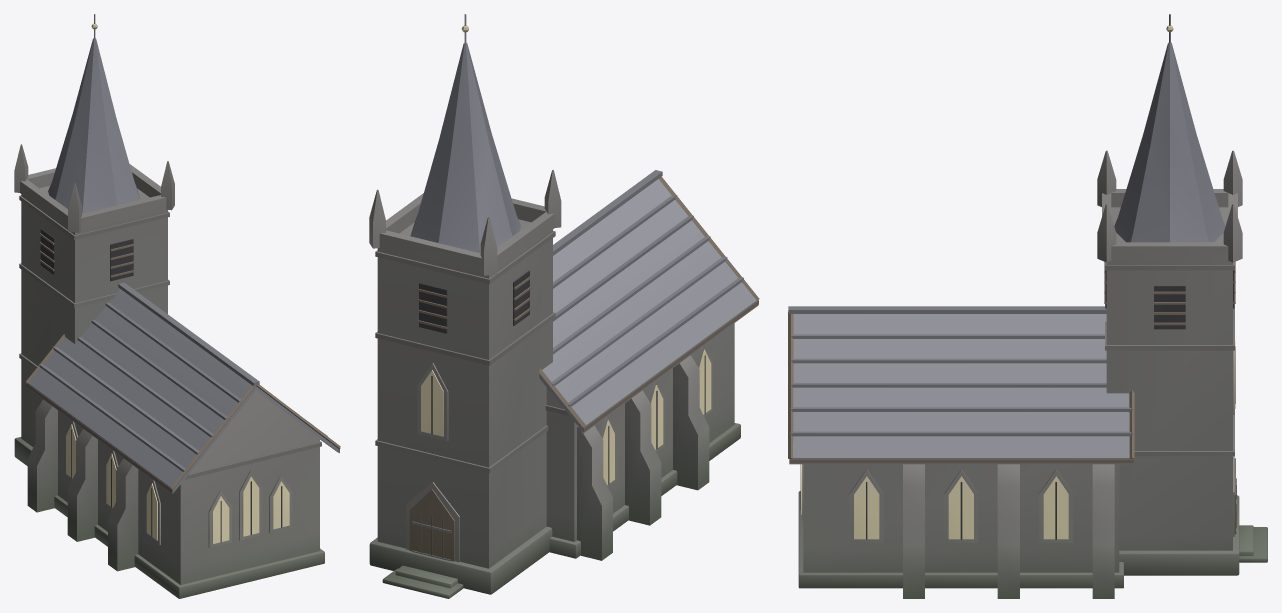
Rendered from chapel.gltf.
3 views of the same model, side by side, from view 1: azimuth 30°, elevation 25°; view 2: azimuth 150°, elevation 25°; view 3: azimuth 270°, elevation 25° (orthographic). The views are drawn at different scales.
Parts seen in each view (by area): view 1: Body; view 2: Body; view 3: Body.
Boxes of the visible parts, <box> form: Body: <box>14,14,340,598</box>; Body: <box>369,14,759,598</box>; Body: <box>788,14,1267,598</box>.
Bounding box in the file's own units: 7.8 × 18.6 × 15.18.
